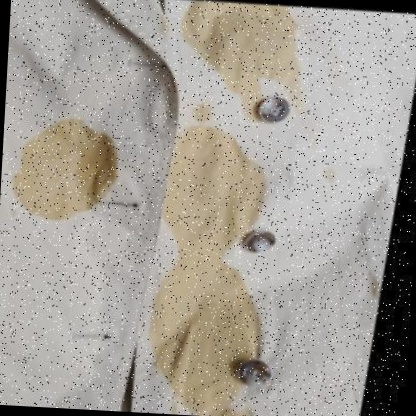coffee: (161, 133, 244, 252), (185, 2, 303, 81), (161, 265, 257, 357), (15, 128, 113, 217)
